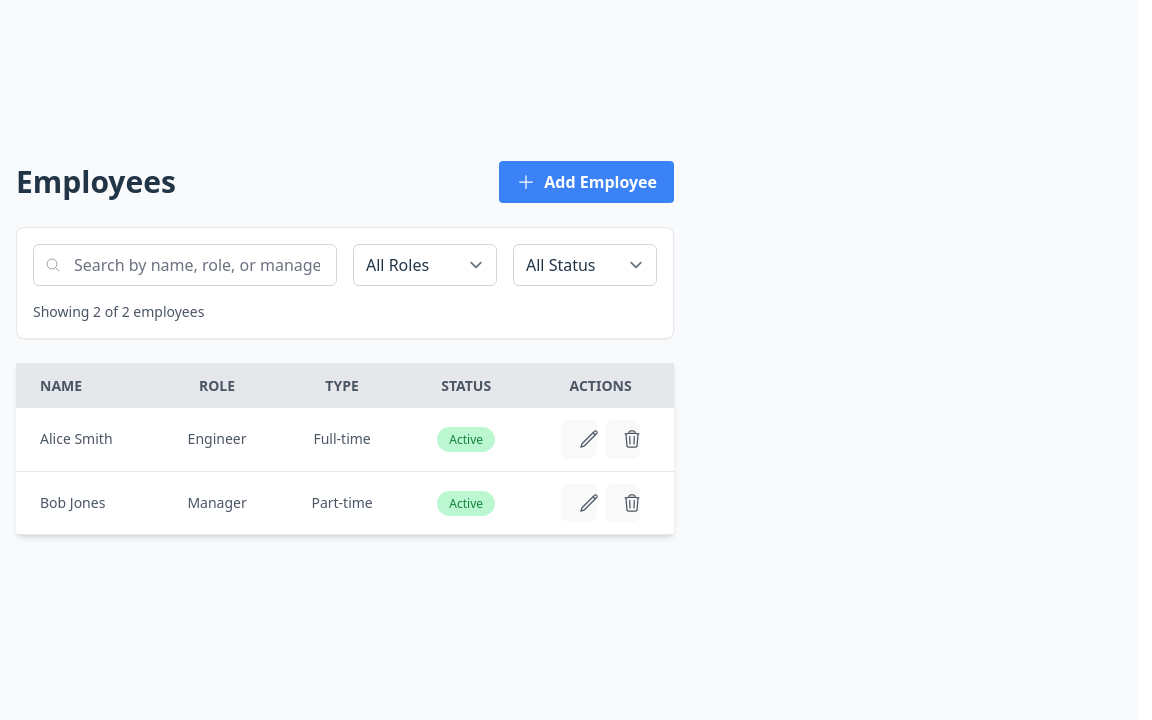
EmployeesPage › opens the add employee form modal
Click the button "Add Employee": (587, 182) [499, 161, 674, 203]
(page scrolled)
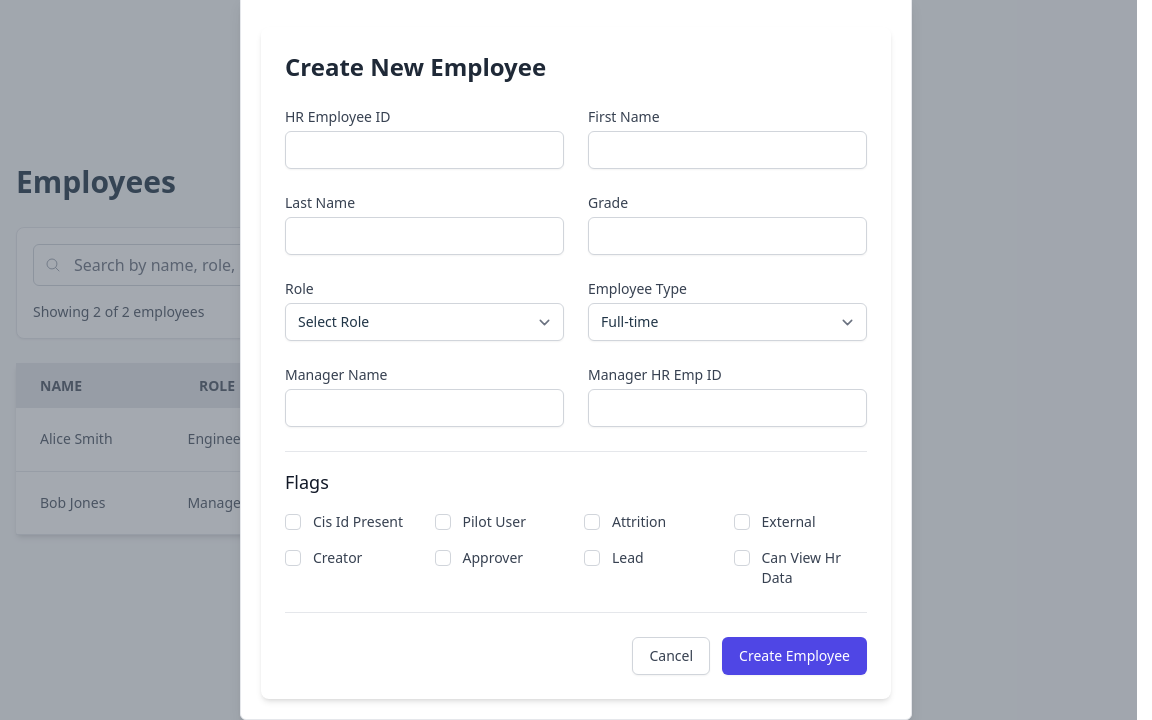
Result: the text "First Name" is shown at [588, 107, 660, 126]
Result: the button "Cancel" is shown at [632, 637, 710, 675]
